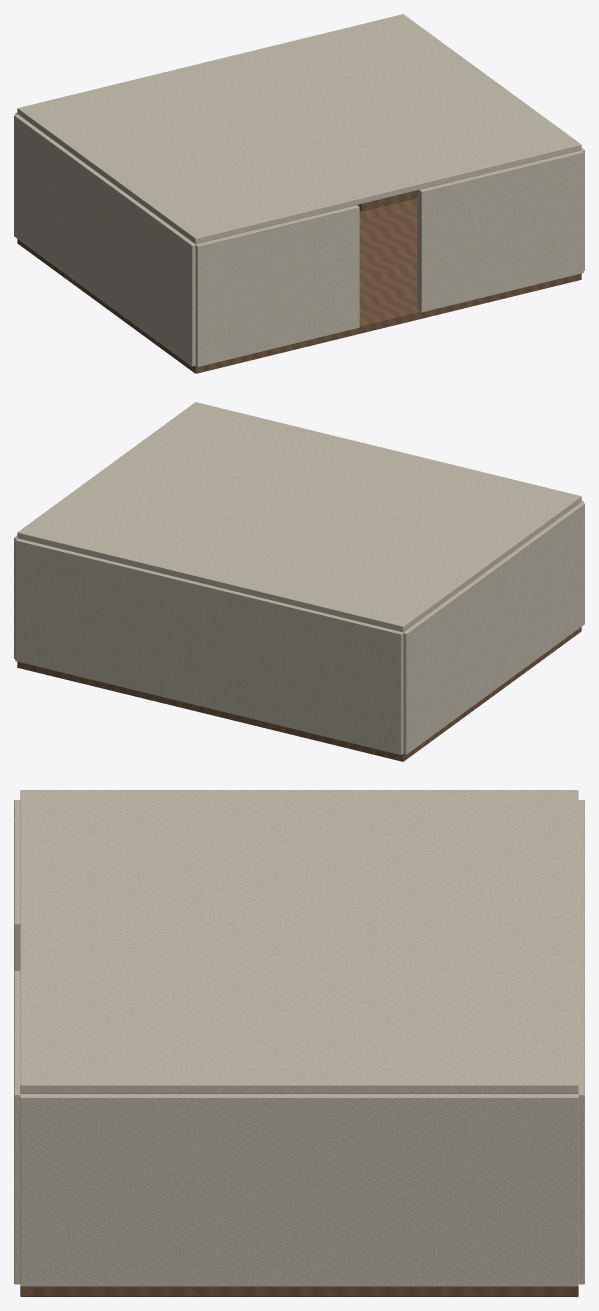
Rendered from ENV_Apartment.glb.
3 views of the same model, one above another, from view 1: azimuth 30°, elevation 25°; view 2: azimuth 150°, elevation 25°; view 3: azimuth 270°, elevation 25° (orthographic). The views are drawn at different scales.
Visible parts, largest first — view 1: Apartment_Interior; view 2: Apartment_Interior; view 3: Apartment_Interior.
Boxes of the visible parts, x1,y1,x2,y2 form: Apartment_Interior: (14,14,584,373); Apartment_Interior: (14,402,584,761); Apartment_Interior: (14,790,584,1296).
Size of what is drawn, in the model's own units: 10.18 by 3.35 by 8.18.
Materials: 7 (7 with a texture image).
